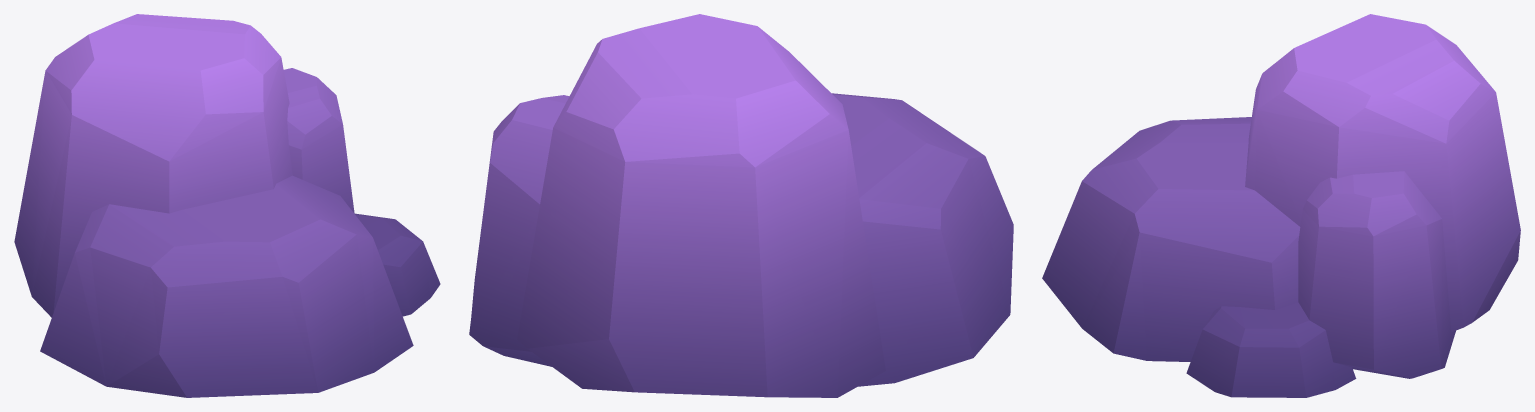
Rendered from Crystal_P_16.glb.
3 views of the same model, side by side, from view 1: azimuth 30°, elevation 25°; view 2: azimuth 150°, elevation 25°; view 3: azimuth 270°, elevation 25° (orthographic). The views are drawn at different scales.
Visible parts, largest first — view 1: crystal_16; view 2: crystal_16; view 3: crystal_16.
Part boxes in pixels (box(x1,y1,x2,y2)): crystal_16: box(14, 14, 440, 397); crystal_16: box(469, 14, 1013, 397); crystal_16: box(1042, 14, 1520, 397).
Size of the model in its own units: 0.9292 by 0.5871 by 1.
1 material, 1 textured.
